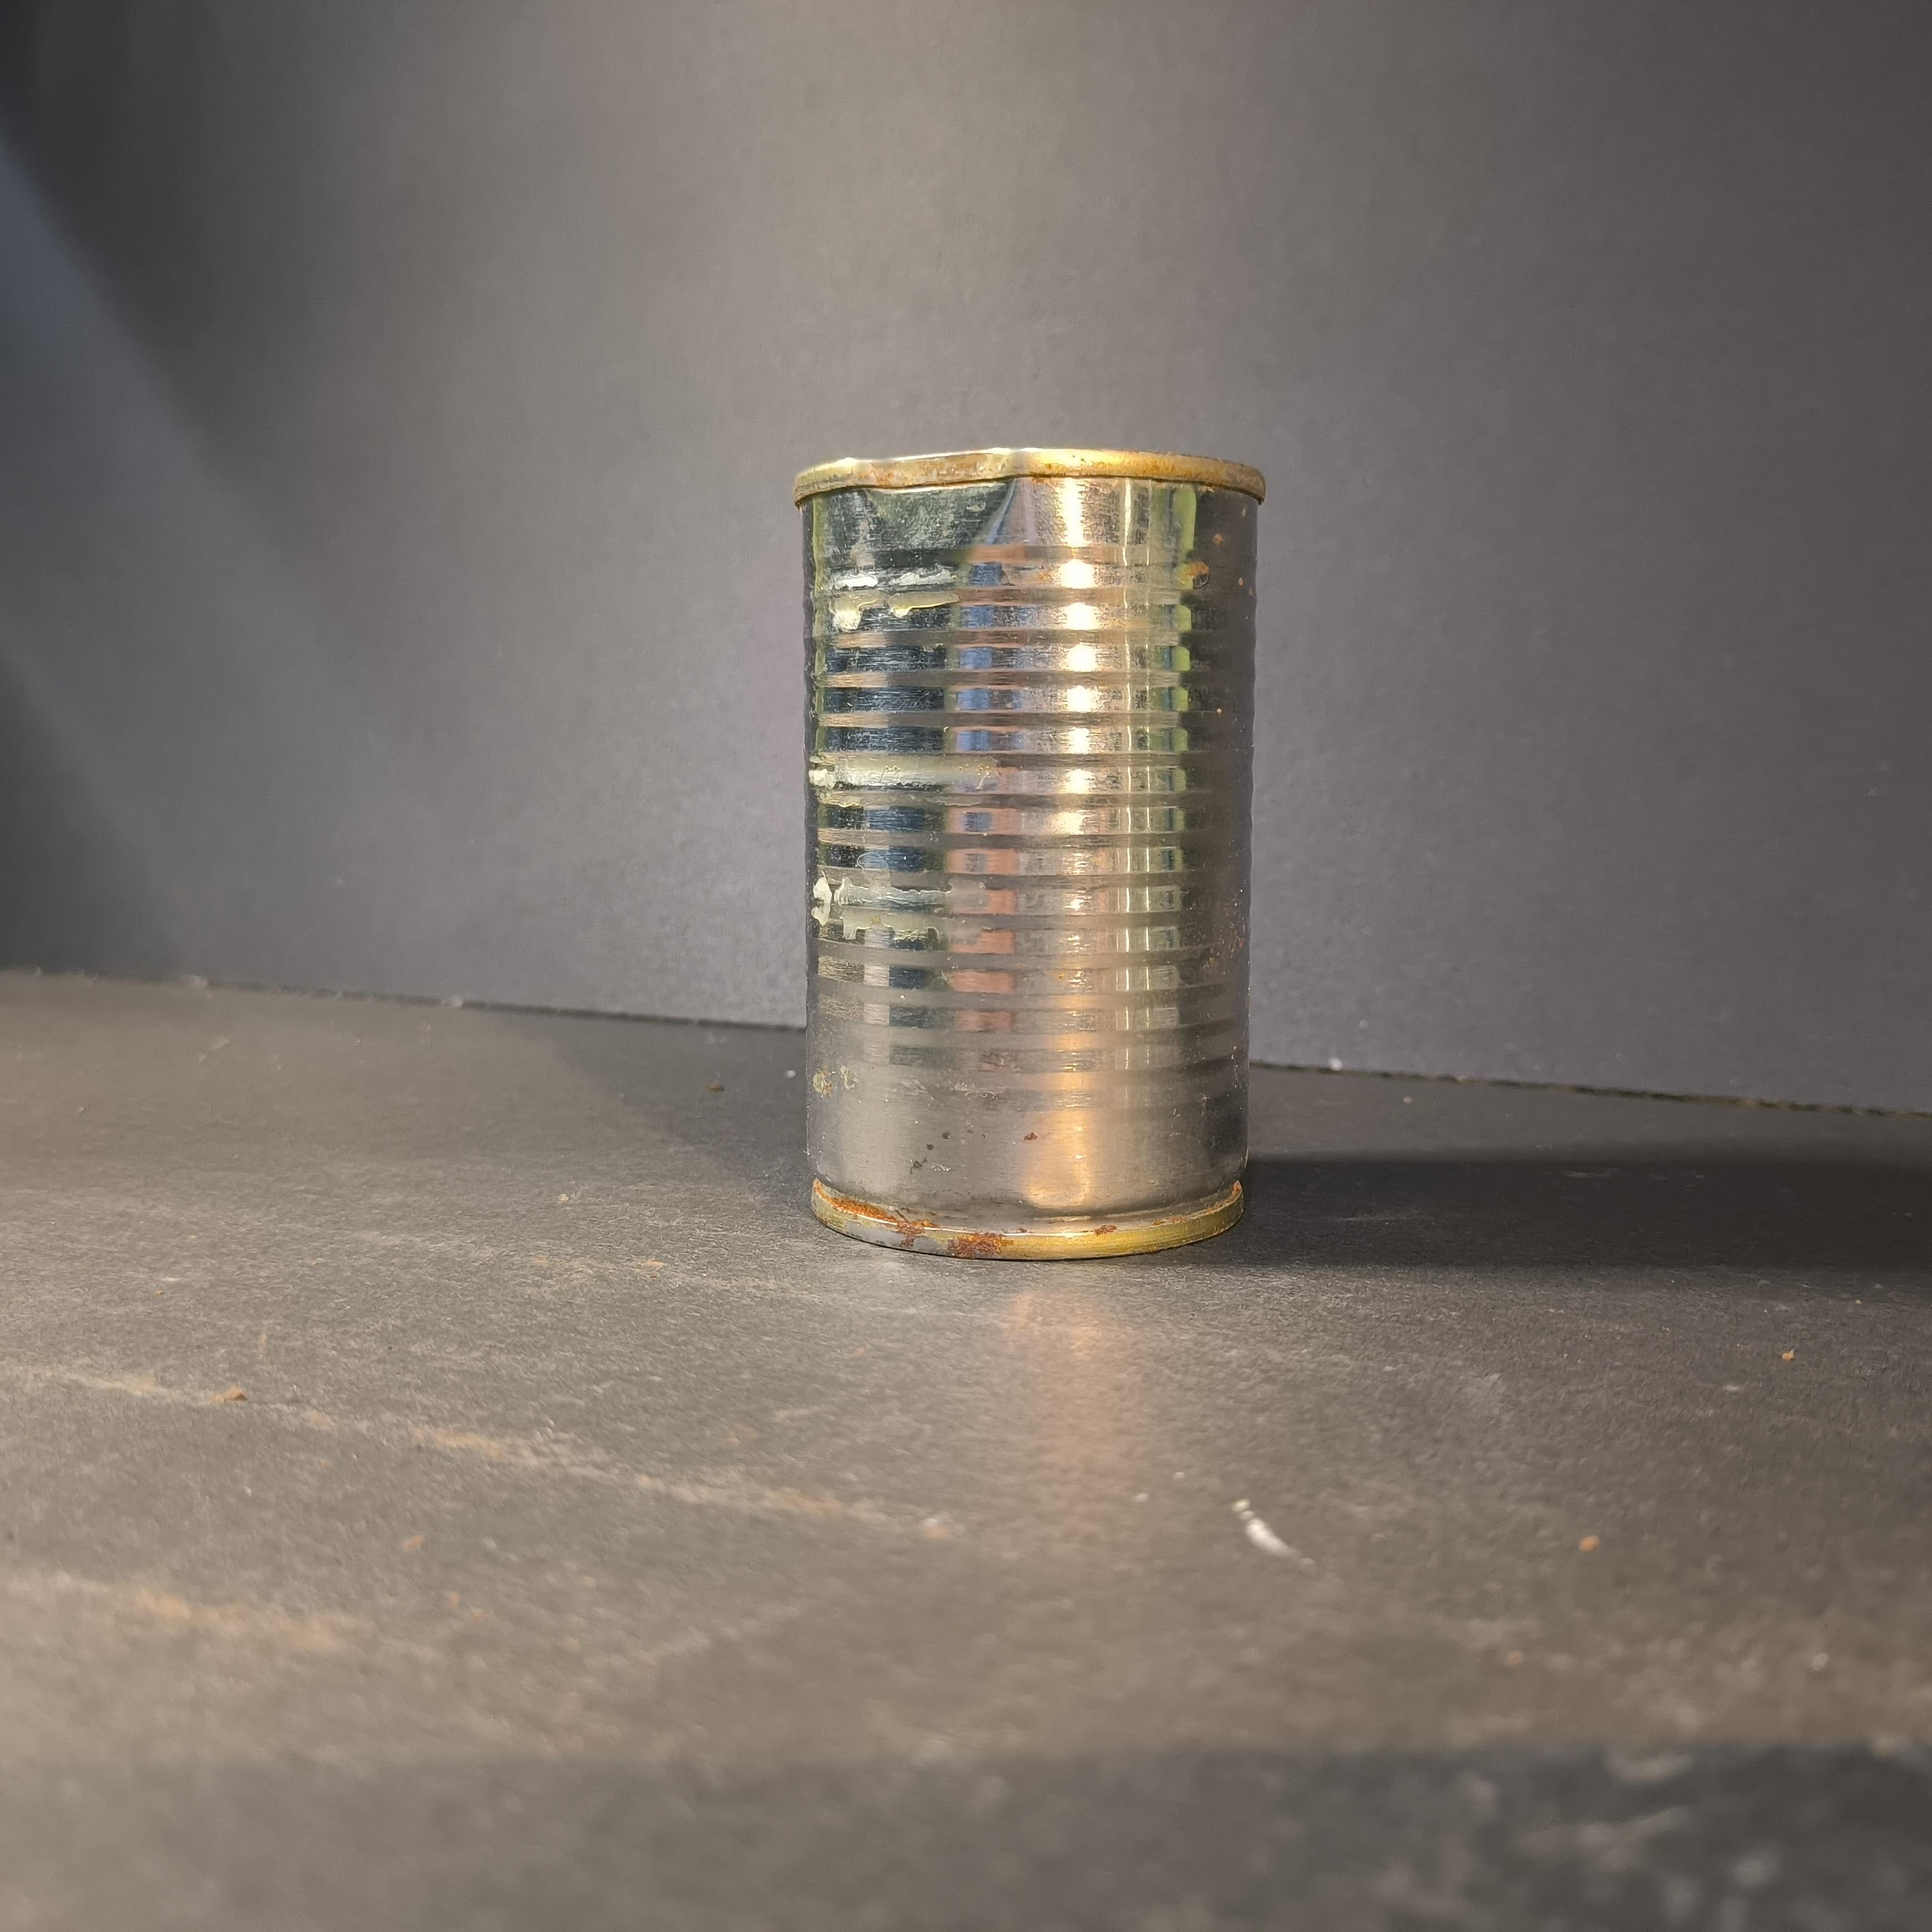Dented: (764, 432, 1283, 1254)
